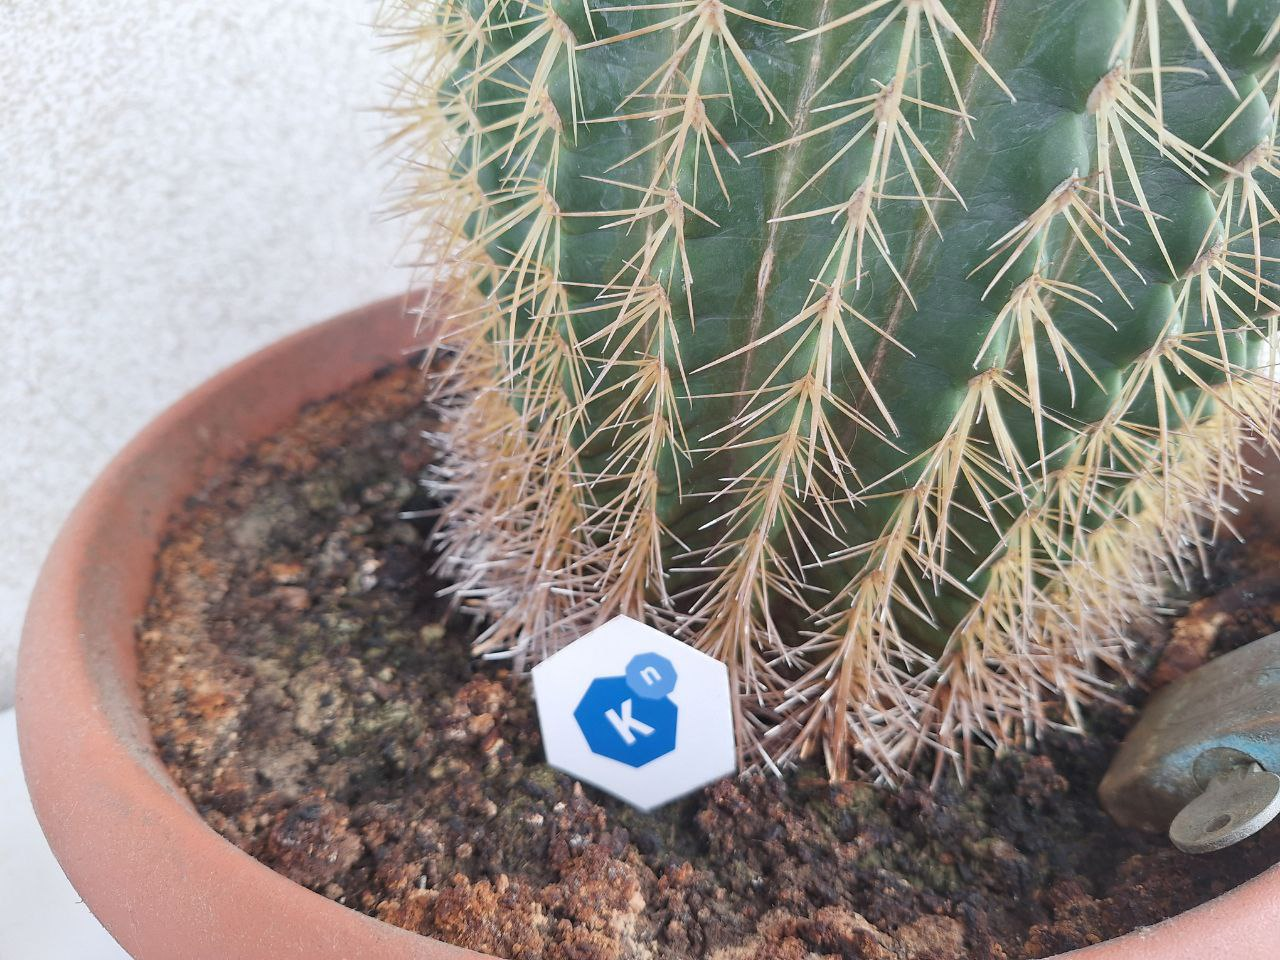knative: (569, 651, 680, 771)
